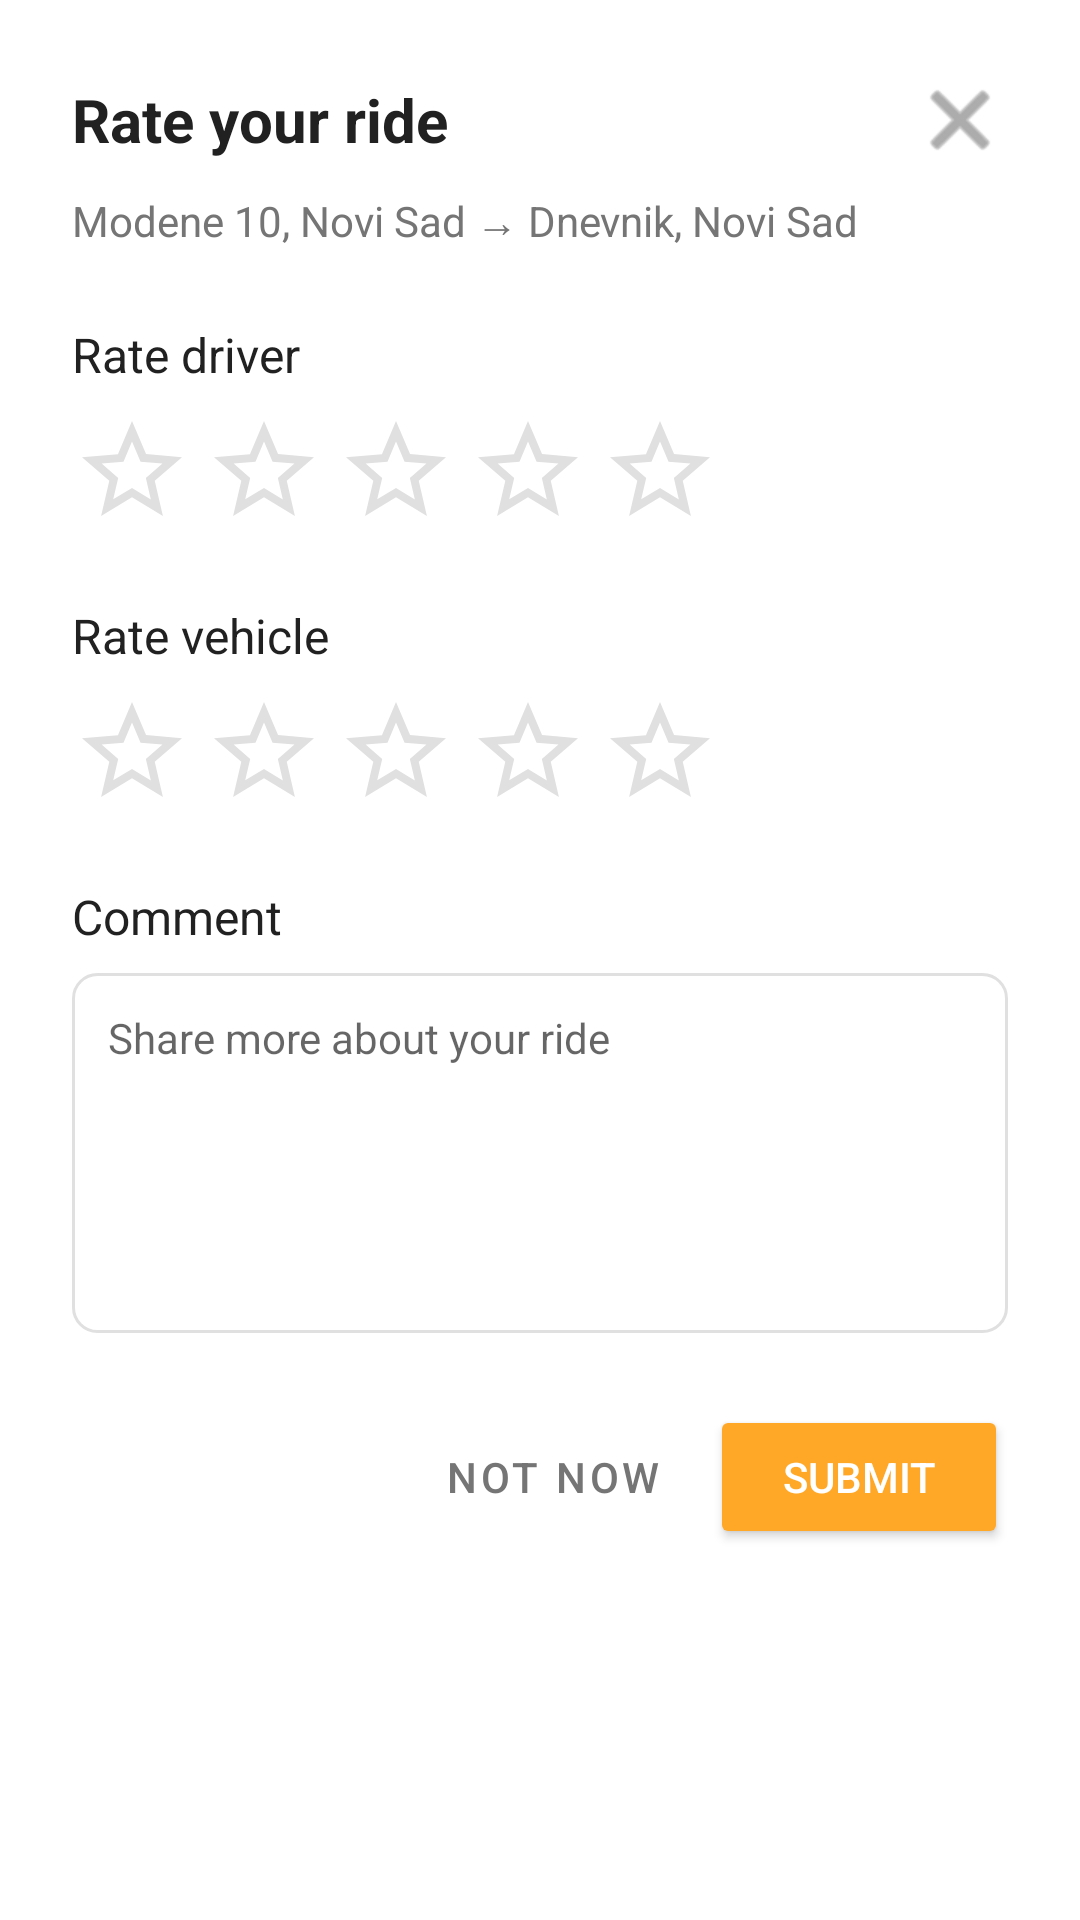

Screen size 1080px x 1920px. Icon name, then its center in pixels as (x,y):
Close: (960,120)
Star 1: (132,469), (132,750)
Star 2: (264,469), (264,750)
Star 3: (396,469), (396,750)
Star 4: (528,469), (528,750)
Star 5: (660,469), (660,750)
